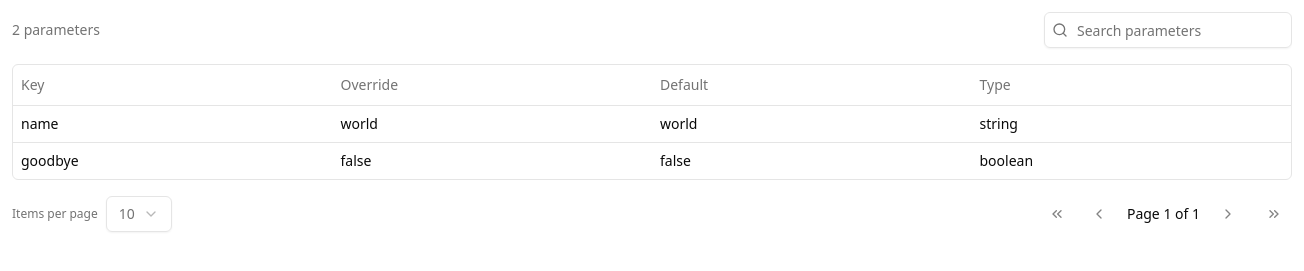
Test: DeploymentParametersTable › filters no results
# ------------ Act
Type "no results found" into the field.
click(1168, 30); type("no results found")  # box [1044, 12, 1292, 48]
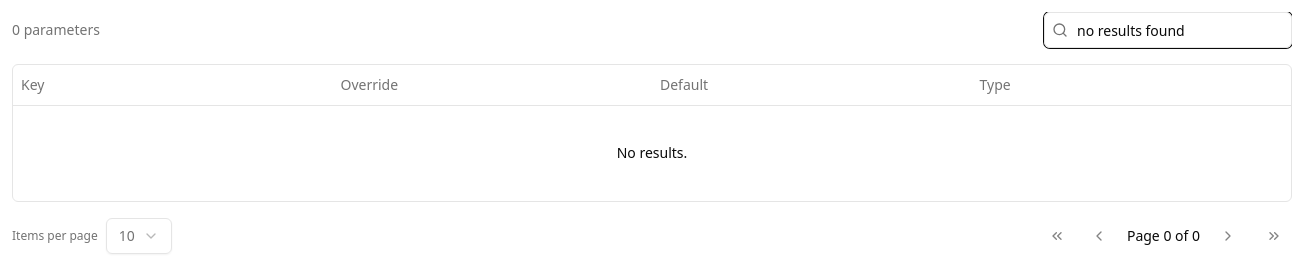
Expected: the cell "goodbye" is gone
Expected: the cell "name" is gone
Expected: the text "No results." is shown, [13, 105, 1291, 201]
